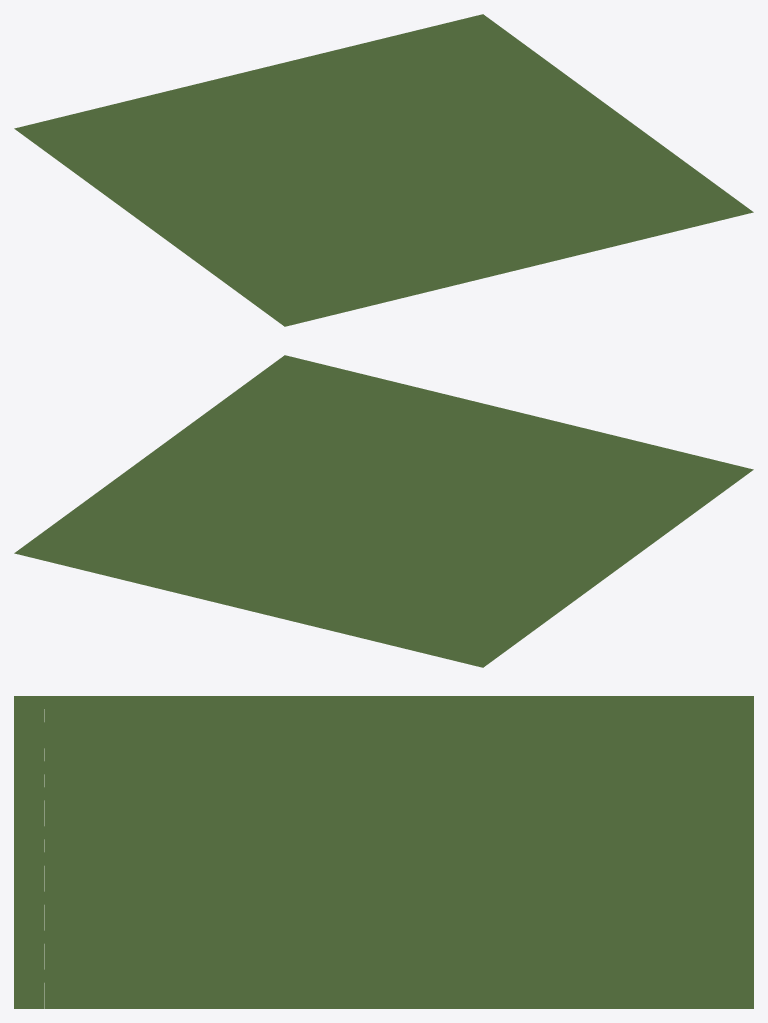
The model's file is dissected_terrain.glb.
3 renders of one model, top to bottom at view 1: azimuth 30°, elevation 25°; view 2: azimuth 150°, elevation 25°; view 3: azimuth 270°, elevation 25°, orthographic. The views are drawn at different scales.
Bounding box in the file's own units: 1000 × 0 × 1000.
